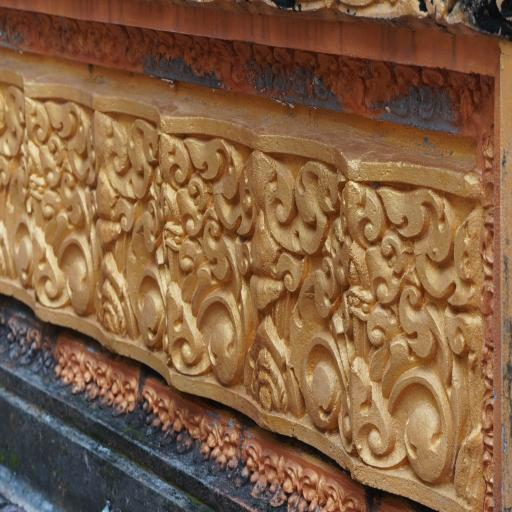la: (340, 168, 486, 508), (238, 137, 352, 443), (154, 125, 241, 382), (24, 94, 103, 321), (90, 109, 163, 349), (0, 83, 34, 294)
